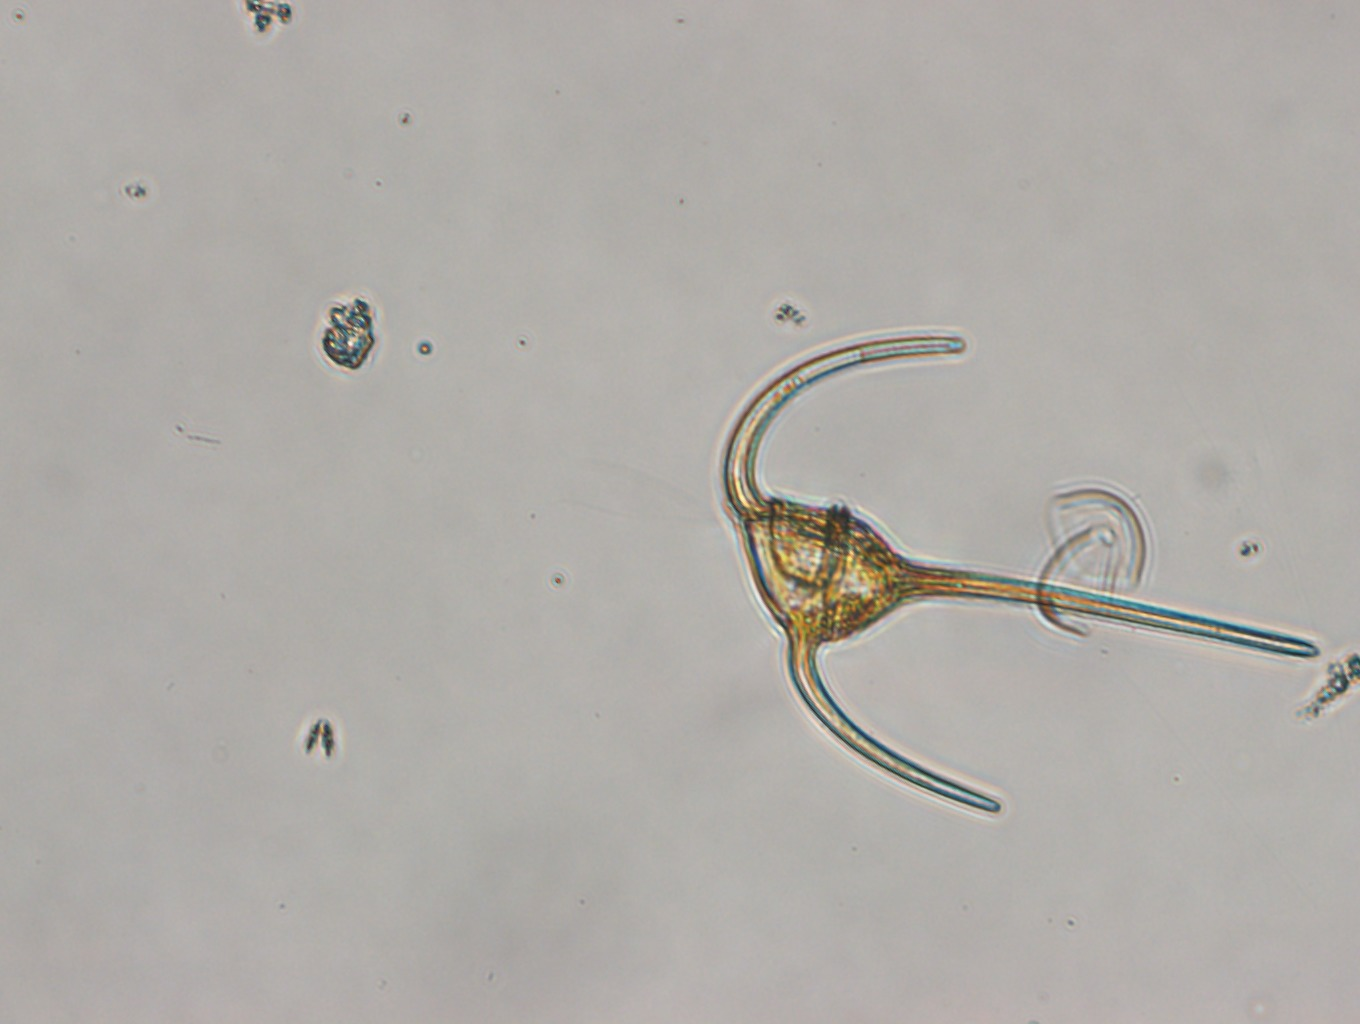ceratium trichoceros: (716, 328, 1322, 813)
